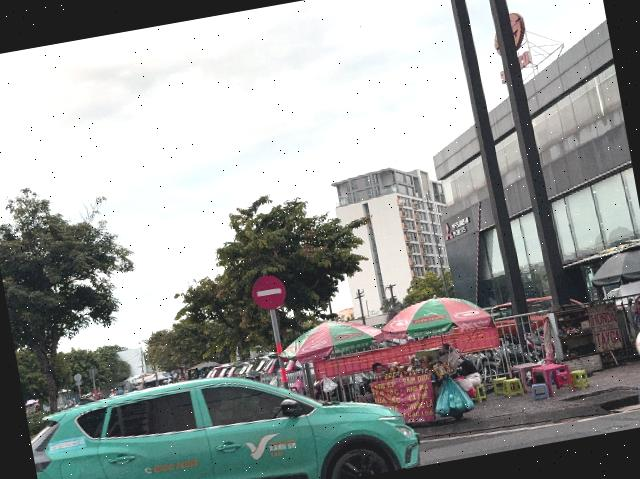cam-di-nguoc-chieu: (250, 272, 288, 312)
